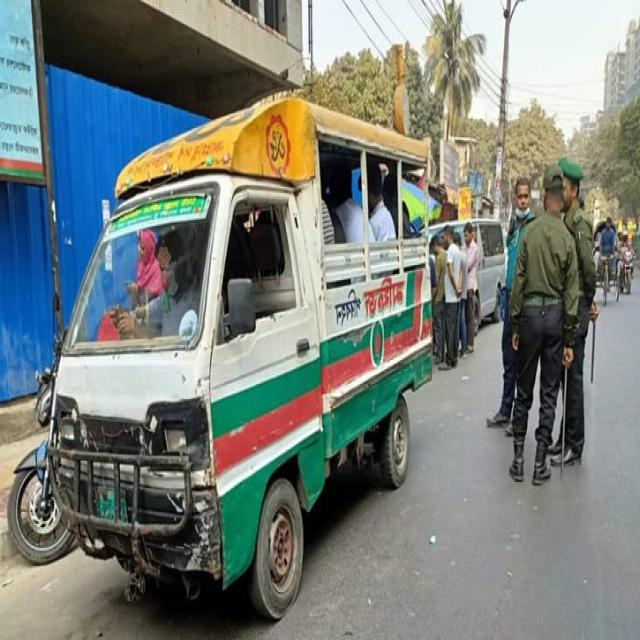Leguna: (62, 95, 438, 614)
Motorbike: (619, 241, 637, 300)
Rickshaw: (594, 216, 621, 307)
